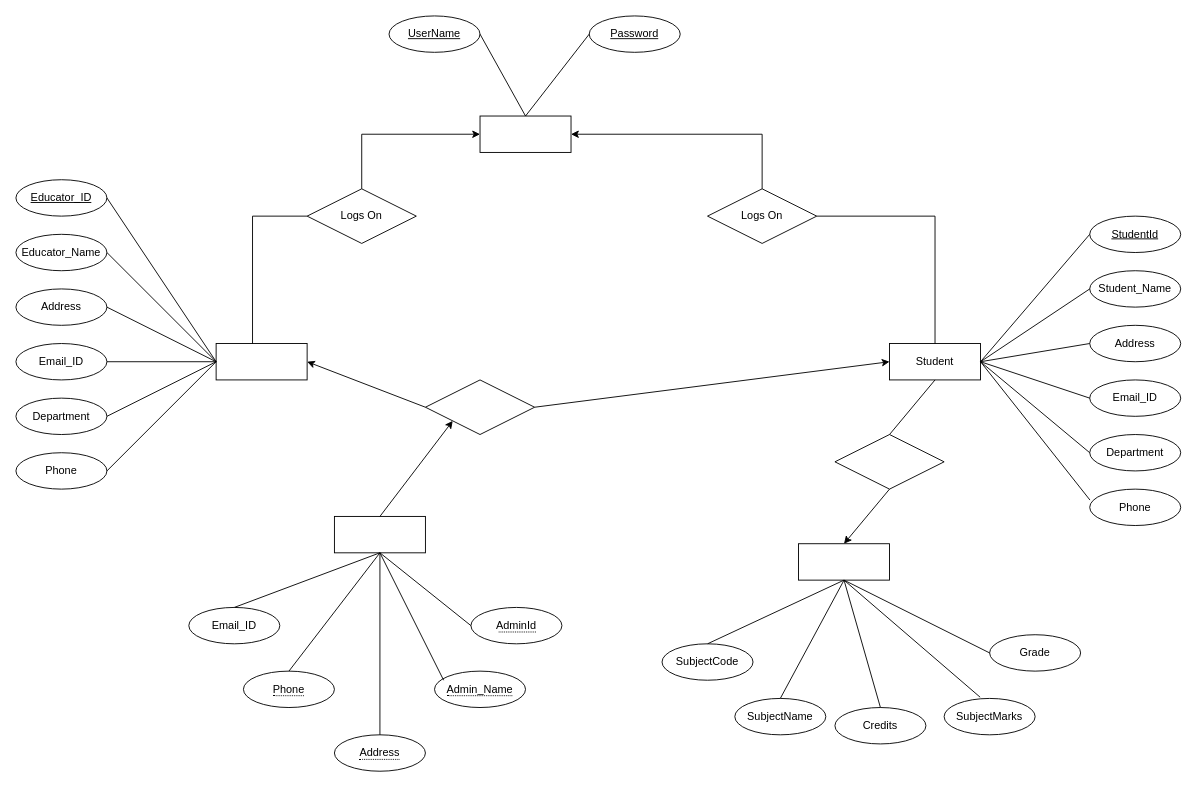
The diagram is 1197 pixels wide and 787 high, and some of its shapes have lost their labels. Here are the shapes that lost their labels. From the top down, the centre of each, then its label:
At (x=525, y=133): "LoginPage".
At (x=261, y=361): "Educator".
At (x=480, y=407): "Manages".
At (x=889, y=461): "Has".
At (x=379, y=534): "Admin".
At (x=844, y=561): "Marks".
